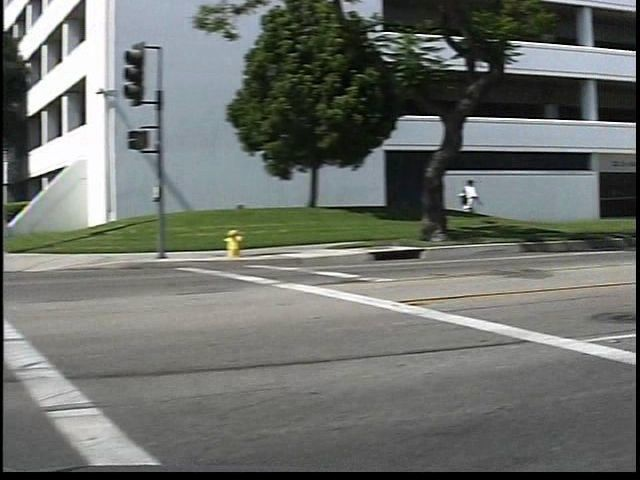person: (474, 173, 498, 234)
